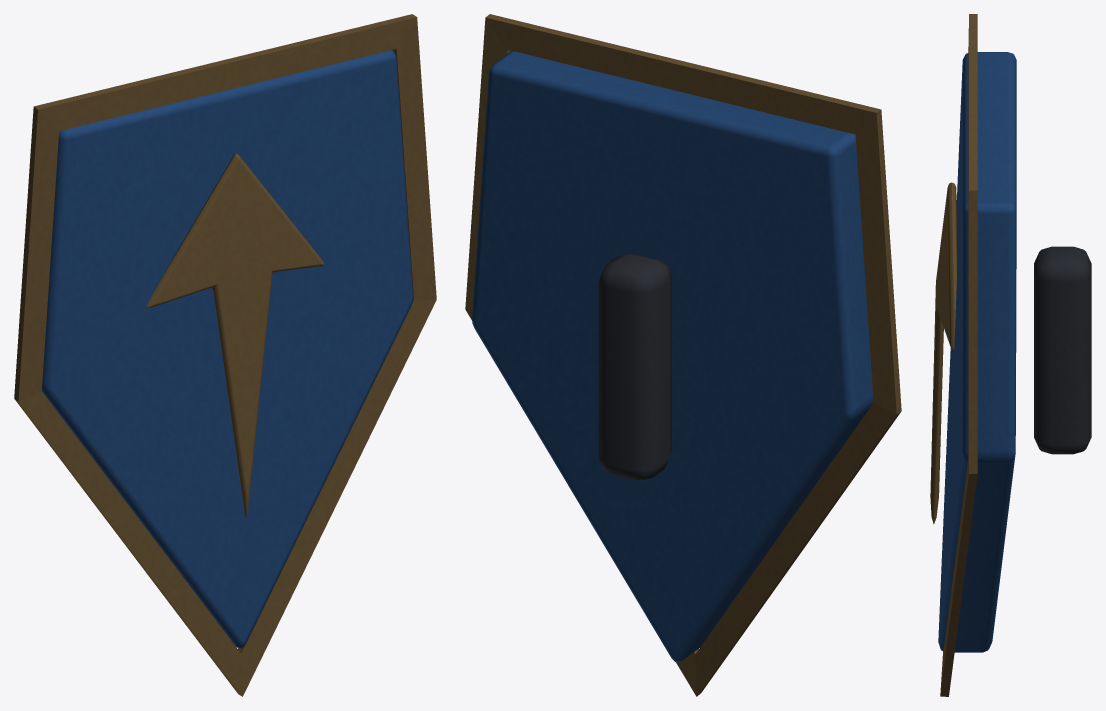
File: kite_shield_study.glb
The picture shows the model from 3 angles, left to right: view 1: azimuth 30°, elevation 25°; view 2: azimuth 150°, elevation 25°; view 3: azimuth 270°, elevation 25°; orthographic projection. The views are drawn at different scales.
Visible parts, largest first — view 1: ShieldRuntime; view 2: ShieldRuntime; view 3: ShieldRuntime.
Part boxes in pixels (box(x1,y1,x2,y2)): ShieldRuntime: box(14, 14, 436, 696); ShieldRuntime: box(465, 14, 901, 696); ShieldRuntime: box(930, 14, 1091, 696).
Bounding box in the file's own units: 0.64 × 0.9107 × 0.2237.
1 material, 1 textured.
